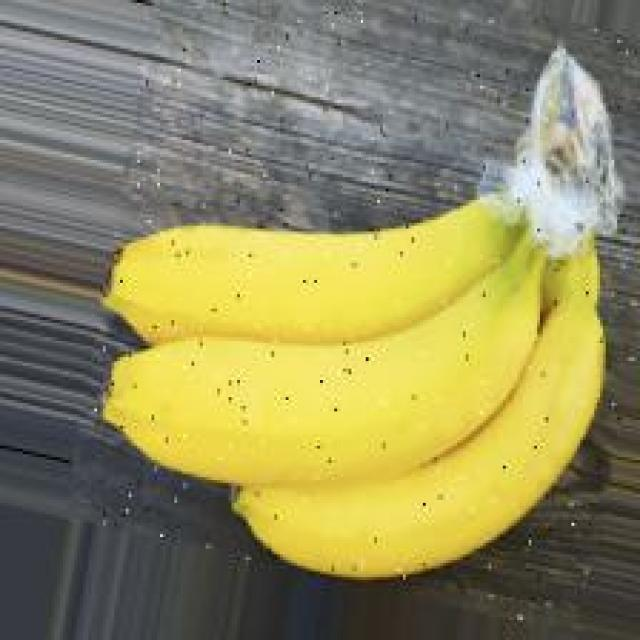banana: (89, 145, 624, 593)
